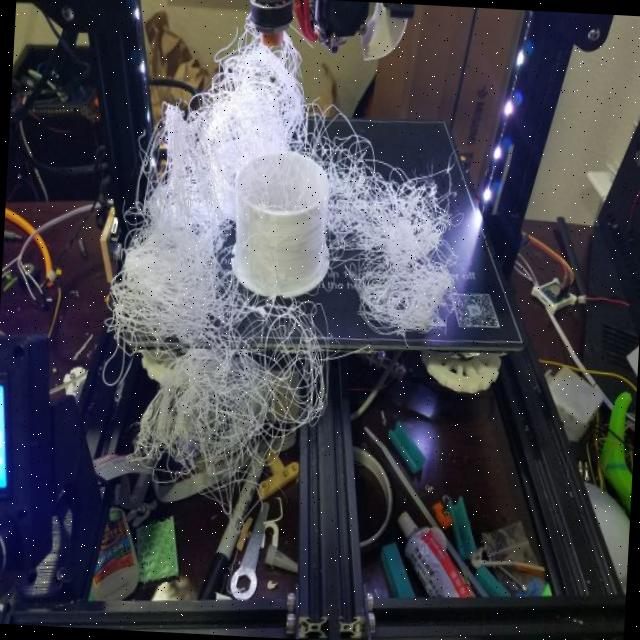spaghetti: (102, 32, 322, 488), (315, 114, 466, 333)
